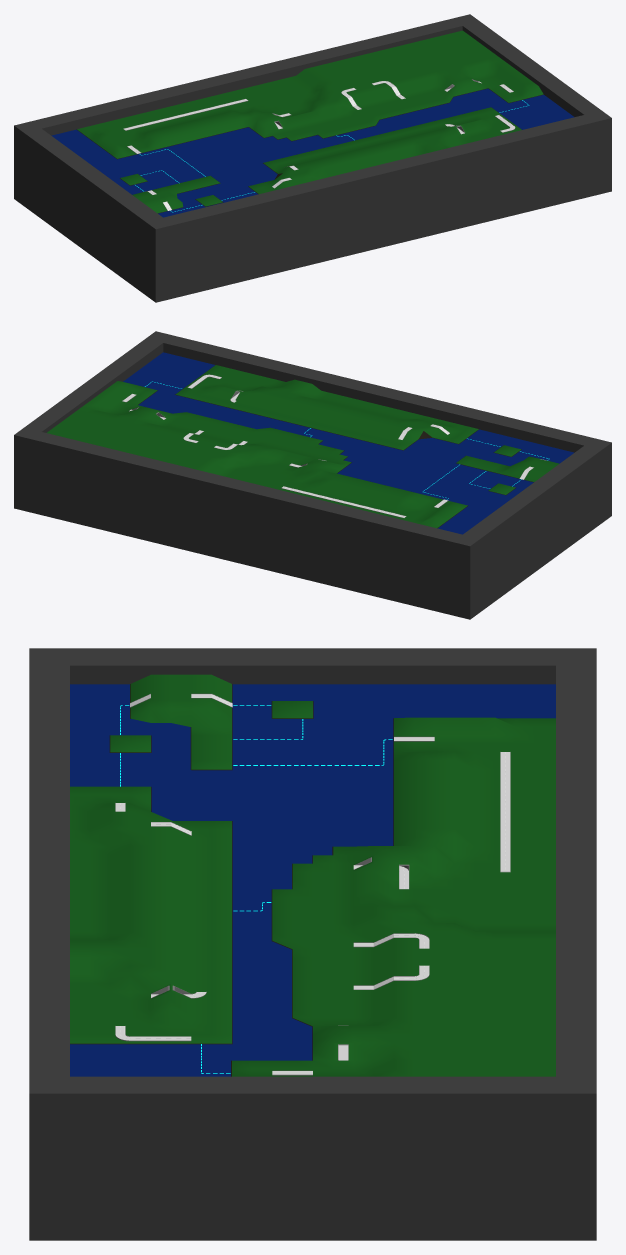
File: map.fbx
The picture shows the model from 3 angles, top to bottom: view 1: azimuth 30°, elevation 25°; view 2: azimuth 150°, elevation 25°; view 3: azimuth 270°, elevation 25°; orthographic projection. The views are drawn at different scales.
Parts seen in each view (by area): view 1: Box248, Plane001, Plane002, Line019, Line068, Line023; view 2: Box248, Plane001, Plane002, Line019, Line068; view 3: Box248, Plane001, Plane002, Line019, Line068, Line124.
Part boxes in pixels (box(x1,y1,x2,y2)): Box248: box(14, 14, 611, 302); Plane001: box(76, 30, 543, 213); Plane002: box(51, 88, 574, 217); Line019: box(123, 99, 297, 210); Line068: box(341, 81, 515, 134); Line023: box(124, 98, 297, 210); Box248: box(14, 331, 611, 619); Plane001: box(47, 365, 558, 528); Plane002: box(123, 352, 574, 534); Line019: box(282, 424, 545, 517); Line068: box(122, 375, 247, 449); Box248: box(29, 648, 596, 1240); Plane001: box(70, 674, 555, 1076); Plane002: box(70, 684, 555, 1076); Line019: box(115, 694, 510, 889); Line068: box(115, 934, 429, 1074); Line124: box(115, 933, 429, 1075).
Size of what is drawn, in the model's own units: 520 by 80 by 280.
